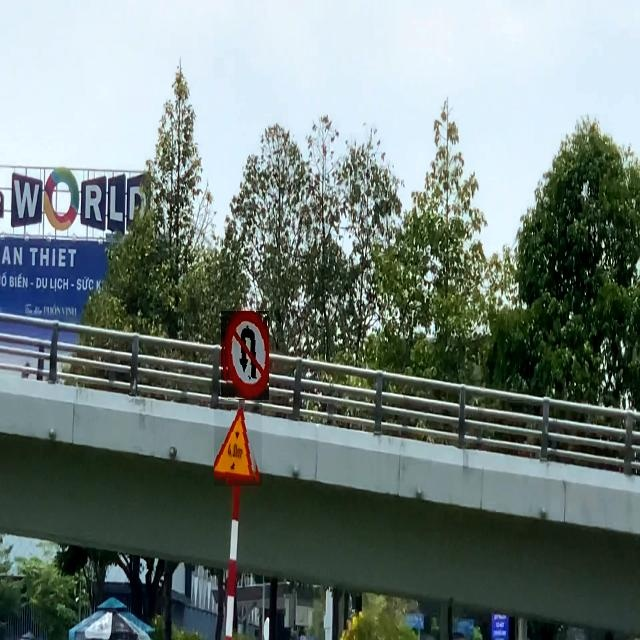bien_cam: (221, 311, 269, 400), (214, 404, 262, 486)
